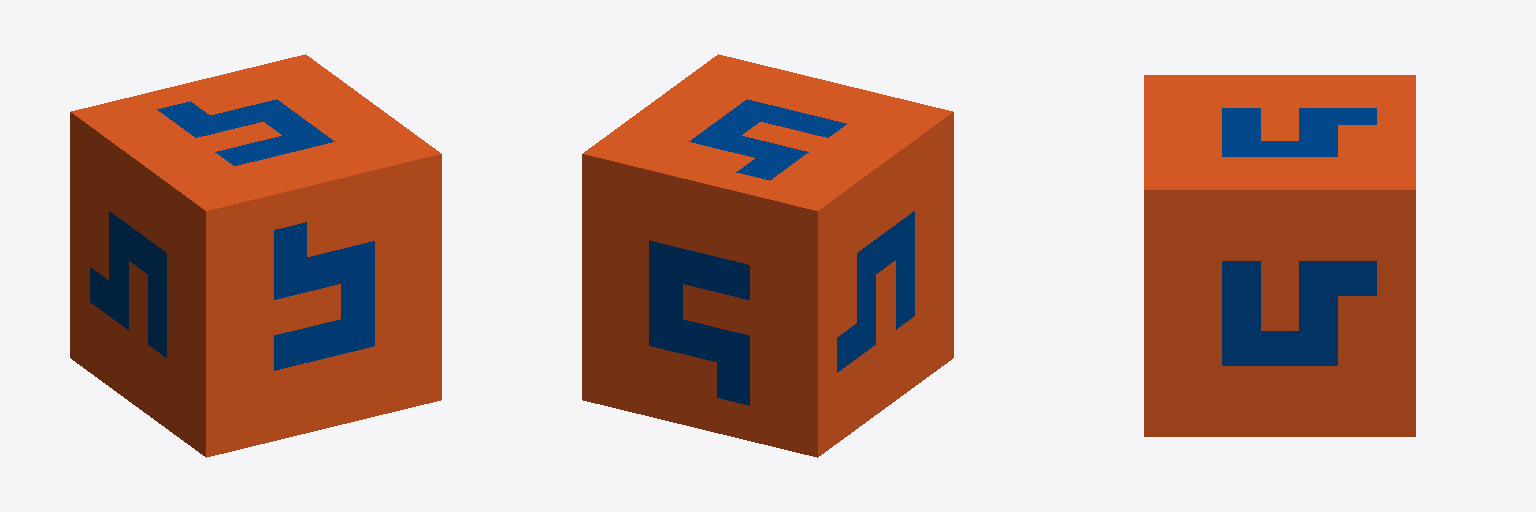
The picture shows the model from 3 angles: view 1: azimuth 30°, elevation 25°; view 2: azimuth 150°, elevation 25°; view 3: azimuth 270°, elevation 25°; orthographic projection.
Visible parts, largest first — view 1: blender-box.001; view 2: blender-box.001; view 3: blender-box.001.
Part boxes in pixels (bbox=[...]): blender-box.001: bbox=[70, 54, 441, 457]; blender-box.001: bbox=[582, 54, 953, 457]; blender-box.001: bbox=[1144, 75, 1415, 436].
Bounding box in the file's own units: 0.7 × 0.7 × 0.7.
Materials: 1 (1 with a texture image).